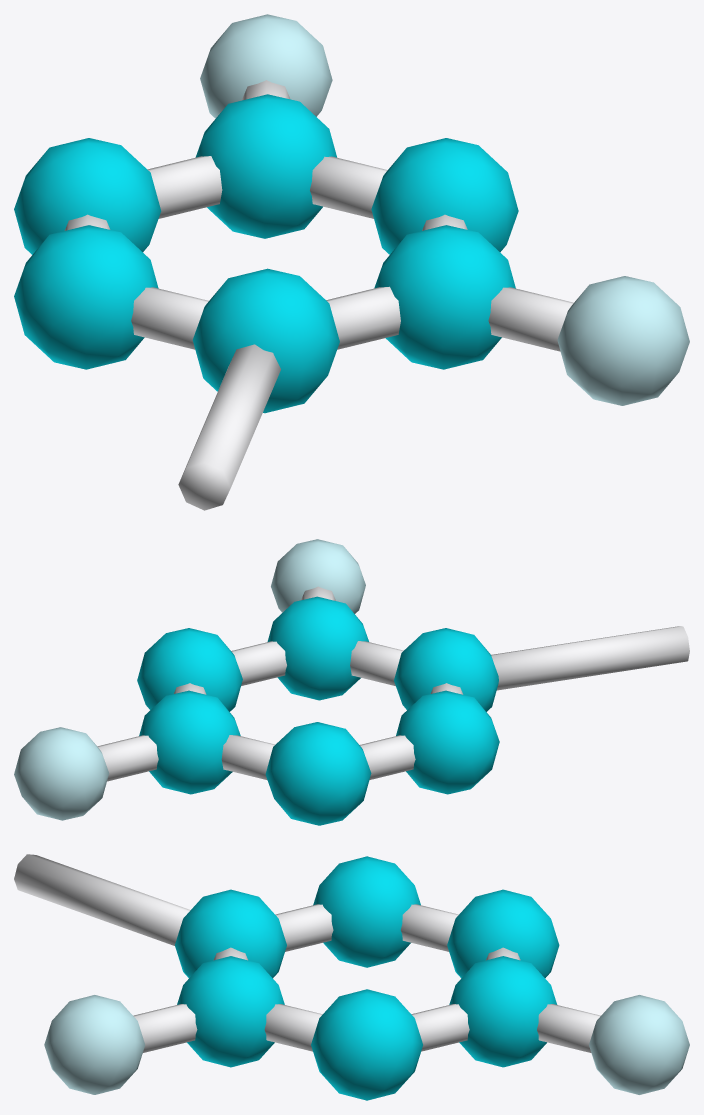
The model's file is Cytosine_C.glb.
3 views of the same model, one above another, from view 1: azimuth 30°, elevation 25°; view 2: azimuth 150°, elevation 25°; view 3: azimuth 270°, elevation 25° (orthographic). The views are drawn at different scales.
Visible parts, largest first — view 1: Cytosine_C_Ring, Cytosine_C_Bonds, Cytosine_C_Edge; view 2: Cytosine_C_Ring, Cytosine_C_Bonds, Cytosine_C_Edge; view 3: Cytosine_C_Ring, Cytosine_C_Bonds, Cytosine_C_Edge.
Boxes of the visible parts, x1=… form: Cytosine_C_Ring: x1=14, y1=94, x2=518, y2=413; Cytosine_C_Bonds: x1=64, y1=80, x2=573, y2=510; Cytosine_C_Edge: x1=200, y1=14, x2=689, y2=405; Cytosine_C_Ring: x1=137, y1=596, x2=499, y2=825; Cytosine_C_Bonds: x1=97, y1=586, x2=689, y2=781; Cytosine_C_Edge: x1=14, y1=539, x2=365, y2=820; Cytosine_C_Ring: x1=175, y1=856, x2=559, y2=1100; Cytosine_C_Bonds: x1=14, y1=854, x2=600, y2=1052; Cytosine_C_Edge: x1=44, y1=995, x2=689, y2=1094.
Bounding box in the file's own units: 0.0427 × 0.01 × 0.0602.
